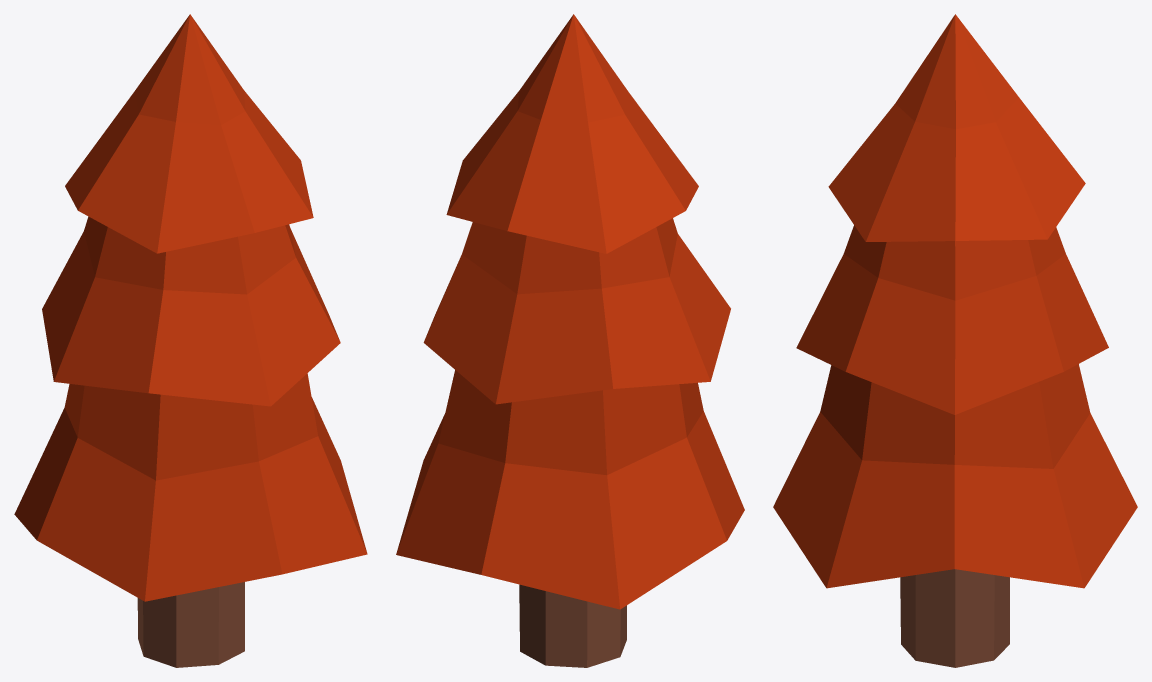
The model's file is Tree_01_summer_red_mat.fbx.
The picture shows the model from 3 angles, left to right: view 1: azimuth 30°, elevation 25°; view 2: azimuth 150°, elevation 25°; view 3: azimuth 270°, elevation 25°; orthographic projection.
Visible parts, largest first — view 1: Tree_01_summer_red_mat; view 2: Tree_01_summer_red_mat; view 3: Tree_01_summer_red_mat.
Part boxes in pixels (x1,y1,x2,y2): Tree_01_summer_red_mat: [14, 14, 367, 667]; Tree_01_summer_red_mat: [396, 14, 744, 667]; Tree_01_summer_red_mat: [773, 14, 1137, 667].
Bounding box in the file's own units: 83.22 × 165 × 86.78.
